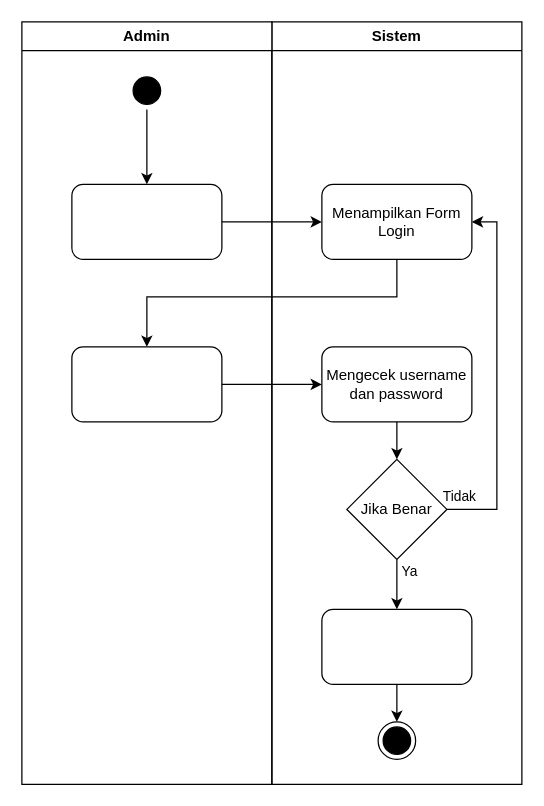
This 544x806 diagram has some shape labels left out. The shapes that lost their labels are listed below. From the top down, each one's centre as x and y in pixels, then its label:
(146,221): Mulai Aplikasi
(146,384): Melakukan input username dan password
(396,646): Menampilkan menu utama
